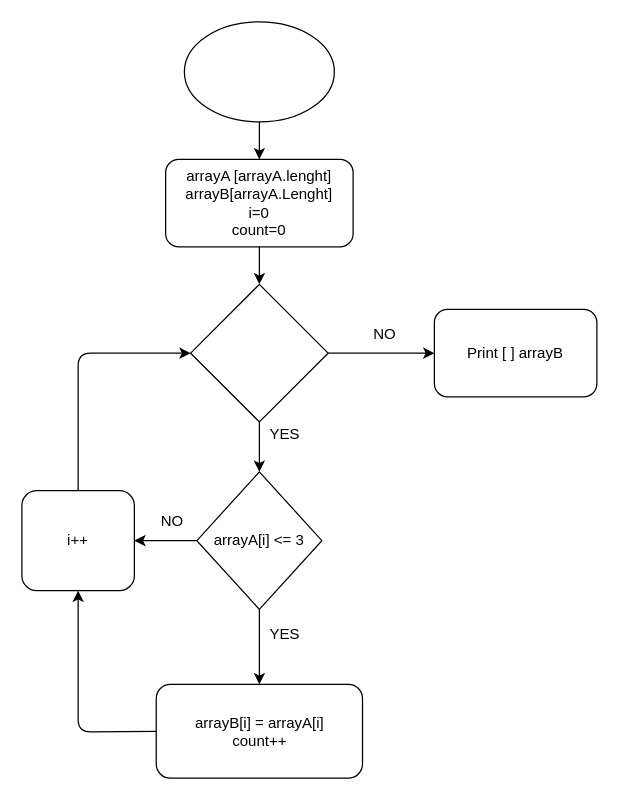
Image size: 619x800. Some labels were removed from this diagram. Each missing label, with the box of its shape:
count < arrayA.Lenght: (189, 283, 328, 422)
START: (183, 21, 334, 122)
